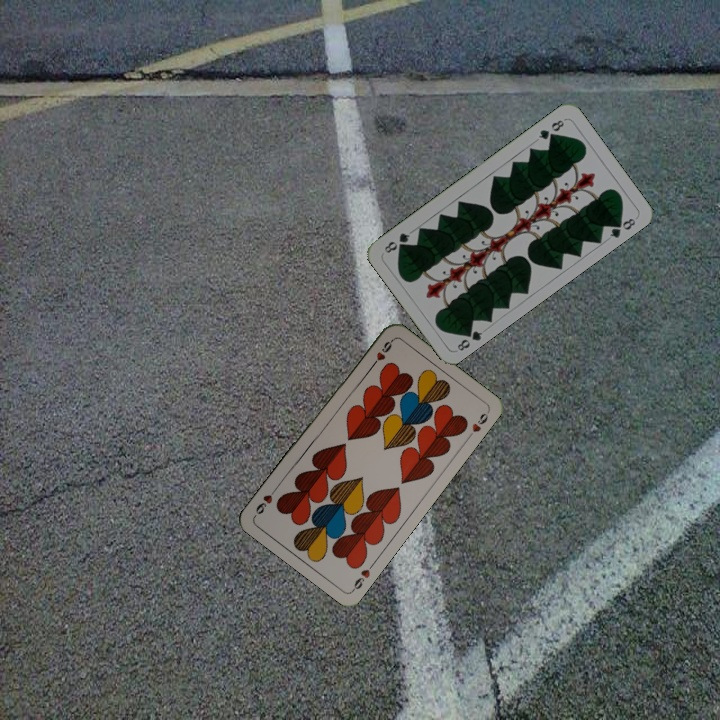G8: (453, 324, 485, 354), (534, 116, 567, 142)
H9: (367, 336, 396, 371), (349, 558, 377, 594)
